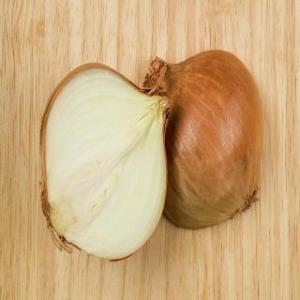onion: (38, 59, 168, 262), (145, 48, 265, 228)
